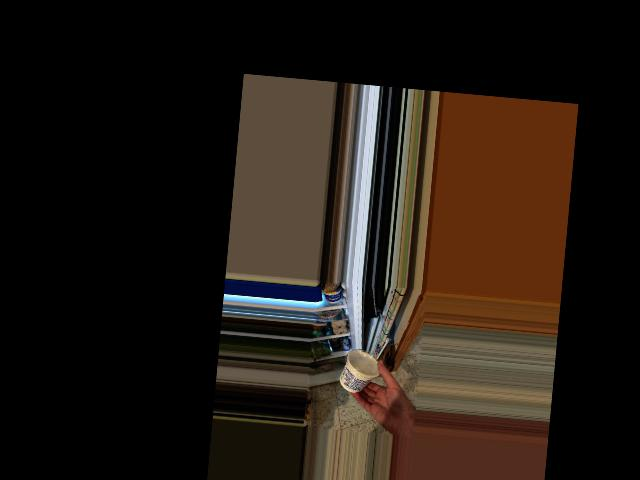cotage: (340, 348, 377, 393)
